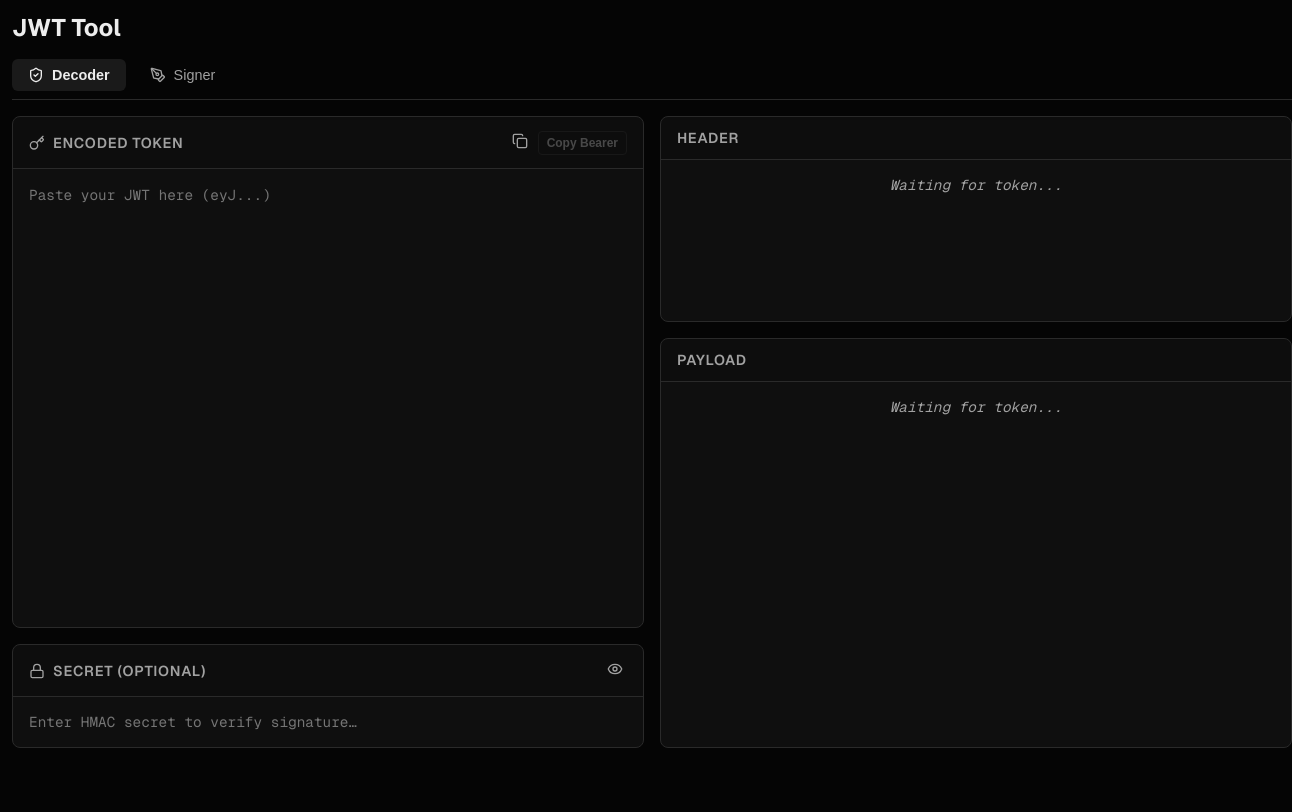
Test: JwtTool › decodes JWT and shows payload fields
Type "eyJhbGciOiJIUzI1NiIsInR5cCI6IkpXVCJ9.eyJzdWIiOiIxMjM0NTY3ODkwIiwibmFtZSI6IkpvaG4gRG9lIiwiaWF0IjoxNTE2MjM5MDIyfQ.XbPfbIHMI6arZ3Y922BhjWgQzWXcXNrz0ogtVhfEd2o" into the text box named "JWT token" at (328, 398), box [13,169,643,627]
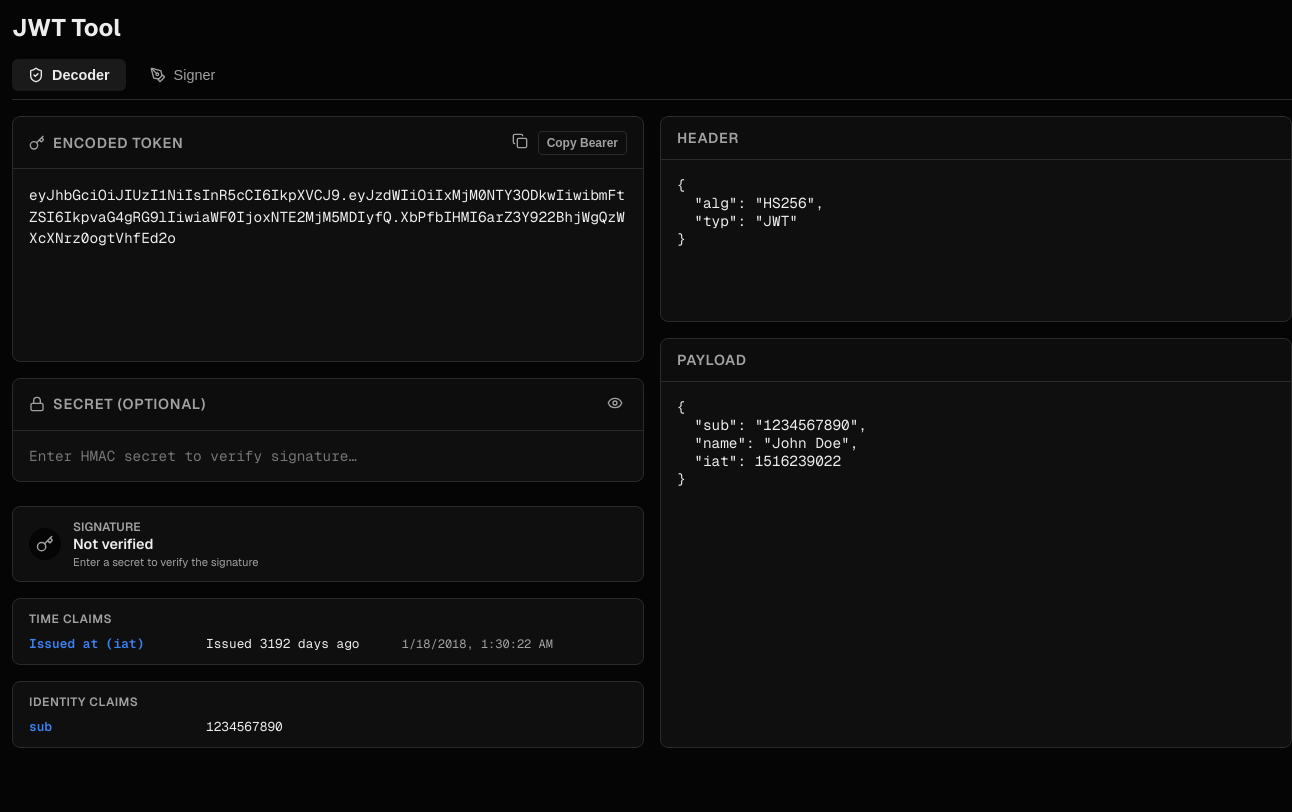
Expected: the text "John Doe" is shown, [677,398,867,488]
Expected: the text "{ \"alg\": \"HS256\", \"typ\": \"JWT\" }" is shown, [677,176,824,248]
